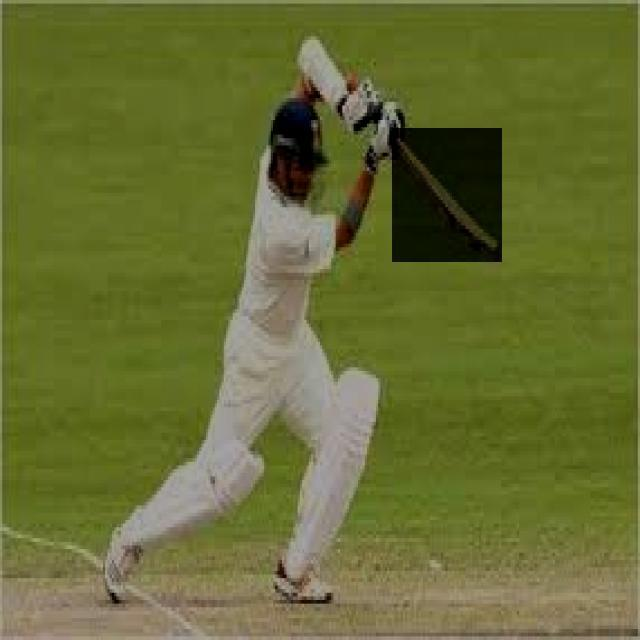bat: (395, 125, 501, 264)
toe: (479, 226, 503, 261)
